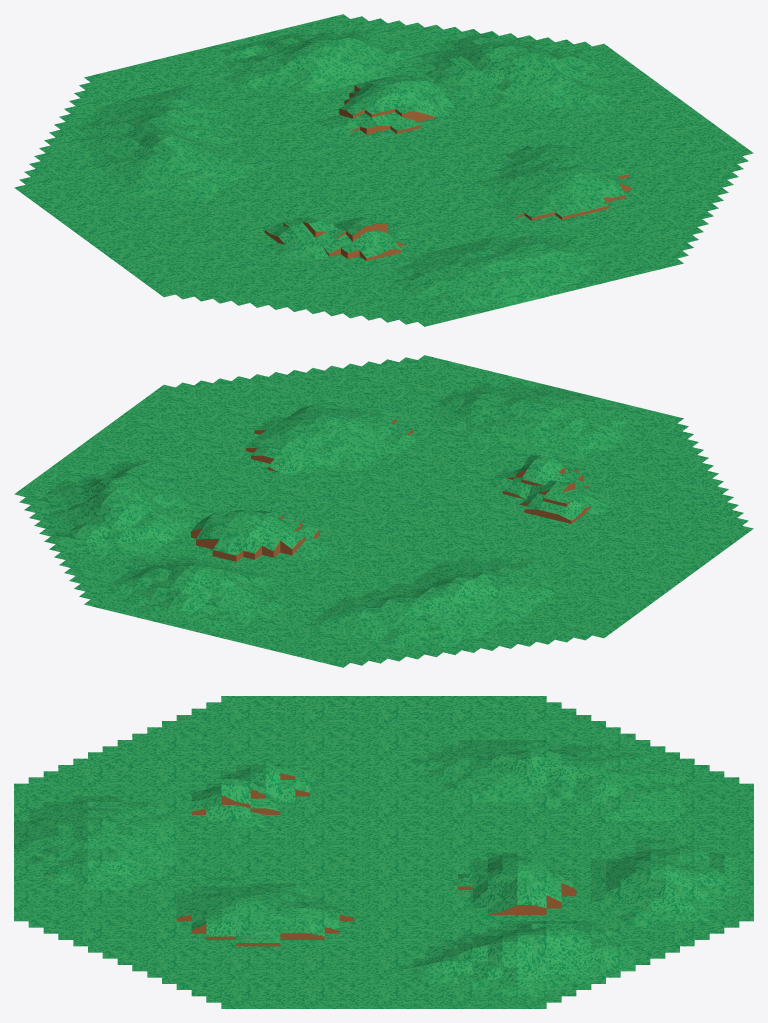
File: FG Map - Plane Wilderness.fbx
The picture shows the model from 3 angles, top to bottom: view 1: azimuth 30°, elevation 25°; view 2: azimuth 150°, elevation 25°; view 3: azimuth 270°, elevation 25°; orthographic projection. The views are drawn at different scales.
Visible parts, largest first — view 1: Plane - Wilderness01; view 2: Plane - Wilderness01; view 3: Plane - Wilderness01.
Part boxes in pixels (x1=…): Plane - Wilderness01: x1=14, y1=14, x2=753, y2=326; Plane - Wilderness01: x1=14, y1=355, x2=753, y2=667; Plane - Wilderness01: x1=14, y1=696, x2=753, y2=1008.
Bounding box in the file's own units: 10000 × 400 × 10000.
